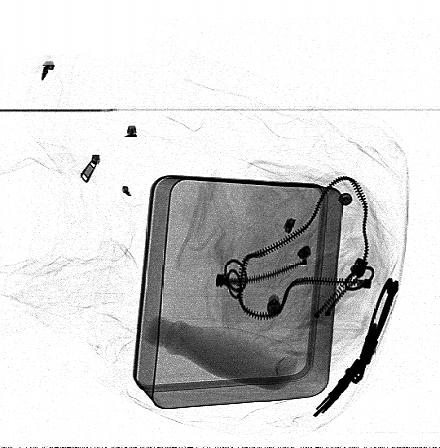HandCuffs: (312, 277, 398, 418)
